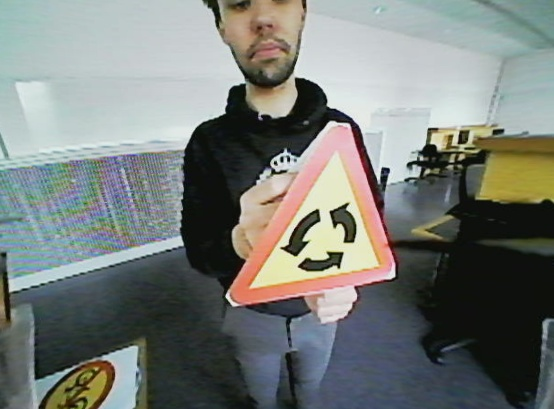roundabout_warning: (219, 118, 403, 306)
